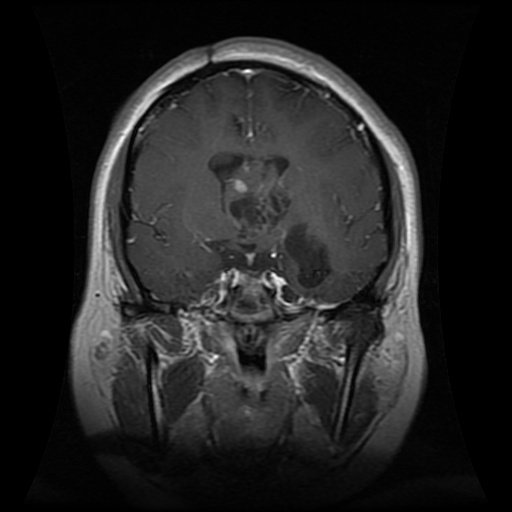glioma: (201, 149, 338, 288)
